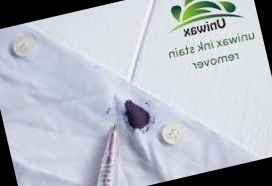ink: (122, 97, 153, 135)
